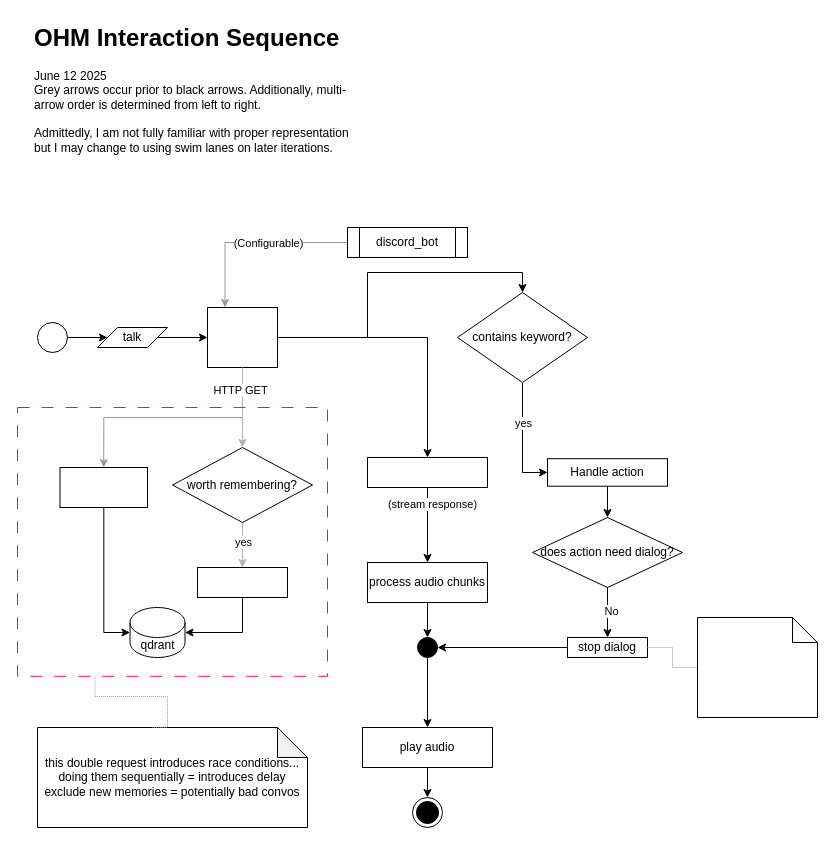
The diagram is 835 pixels wide and 845 high, and some of its shapes have lost their labels. Here are the shapes that lost their labels. From the top down, the box of each, then its label:
(206, 306, 278, 368): stt
(59, 466, 148, 508): Check existing memories
(366, 456, 488, 488): get character response
(196, 566, 288, 598): Save memory
(696, 616, 818, 718): some audio chunks may be handled prior to stopping dialog. This is fine for now.
